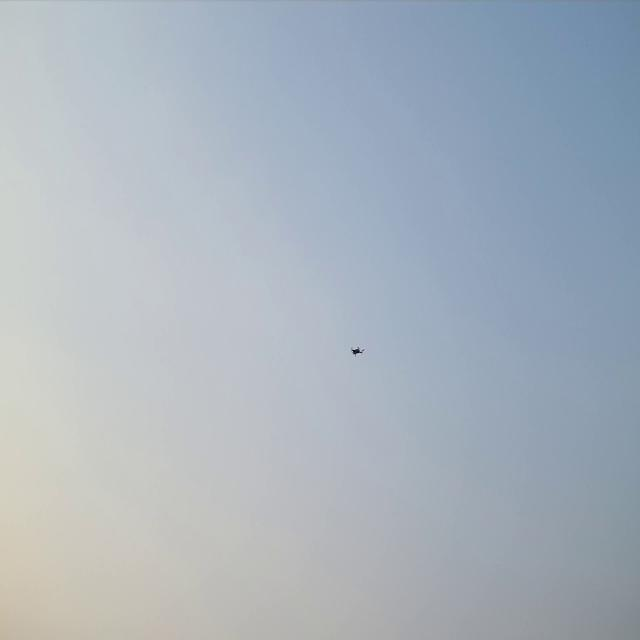UAV: (349, 347, 366, 358)
